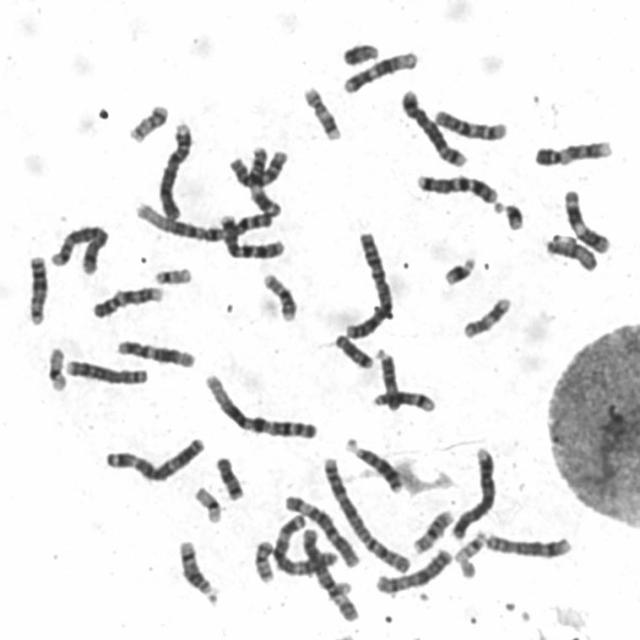A1: (202, 374, 318, 442), (135, 200, 273, 242)
A2: (322, 454, 412, 574), (344, 231, 394, 340)
A3: (105, 438, 204, 484), (270, 514, 340, 575)
B4: (451, 442, 495, 540), (158, 122, 196, 221)
B5: (398, 88, 468, 168), (48, 225, 110, 276)
C10: (227, 148, 291, 191), (431, 109, 509, 142)
C11: (562, 189, 612, 254), (248, 145, 281, 218)
C12: (342, 49, 420, 94), (114, 340, 196, 369)
C6: (284, 495, 362, 569), (300, 527, 360, 623)
C7: (217, 211, 287, 261), (416, 171, 498, 204)
C8: (64, 358, 149, 386), (483, 532, 571, 558)
C9: (532, 136, 616, 167), (89, 286, 164, 318)
D13: (344, 436, 404, 495), (25, 256, 49, 326)
D14: (178, 541, 219, 606), (372, 387, 437, 413)
D15: (546, 237, 600, 274), (375, 346, 402, 412)
E16: (260, 274, 298, 324), (410, 509, 454, 552)
E17: (302, 83, 342, 143), (463, 295, 513, 339)
E18: (333, 333, 373, 369), (215, 457, 246, 500)
F19: (194, 484, 224, 526), (47, 346, 68, 393)
F20: (128, 101, 170, 142), (252, 539, 278, 586)
G21: (442, 256, 479, 290), (493, 200, 526, 233)
G22: (454, 532, 487, 564), (154, 266, 196, 285)
X: (375, 546, 452, 594)
Y: (342, 43, 378, 66)
